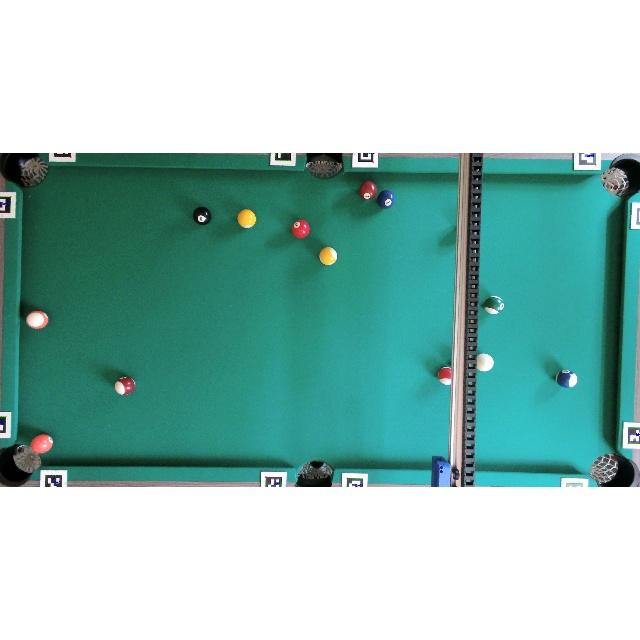cue ball: (476, 354, 494, 372)
other: (30, 433, 54, 455), (26, 310, 48, 330), (115, 376, 135, 396), (556, 369, 577, 388), (483, 296, 504, 315), (237, 209, 256, 229), (377, 189, 395, 209), (359, 181, 377, 200), (193, 207, 212, 225), (319, 247, 337, 265), (292, 220, 310, 238), (437, 367, 452, 385)
